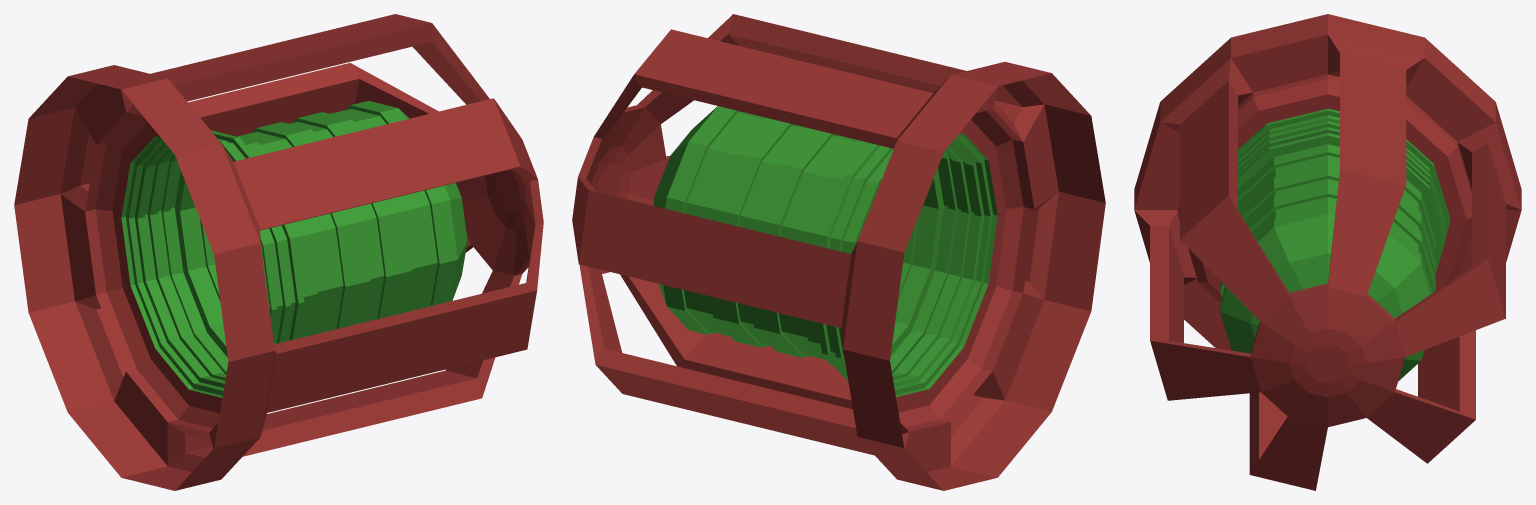
Rendered from SM_Alarme_002.fbx.
3 views of the same model, side by side, from view 1: azimuth 30°, elevation 25°; view 2: azimuth 150°, elevation 25°; view 3: azimuth 270°, elevation 25° (orthographic). The views are drawn at different scales.
Parts seen in each view (by area): view 1: Alarme_002; view 2: Alarme_002; view 3: Alarme_002.
Boxes of the visible parts, box(x1,y1,x2,y2) form: Alarme_002: box(14, 14, 543, 490); Alarme_002: box(572, 14, 1105, 490); Alarme_002: box(1134, 14, 1521, 490).
Bounding box in the file's own units: 10.17 × 9.56 × 9.56.
